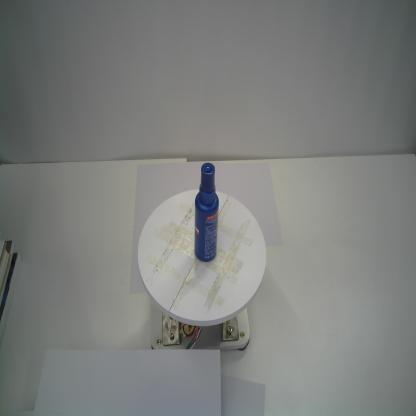Personal Hygiene: (194, 162, 219, 262)
